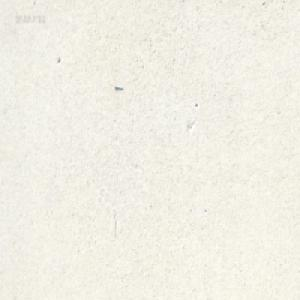Nail: (113, 83, 123, 89)
